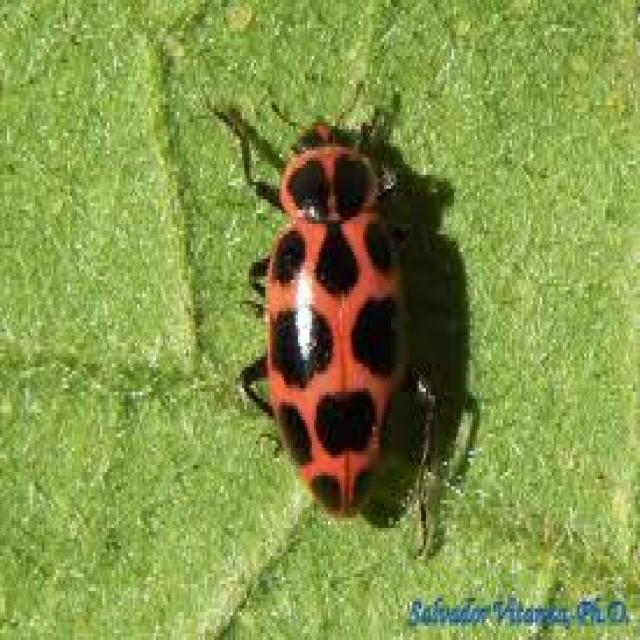bug: (207, 85, 448, 567)
